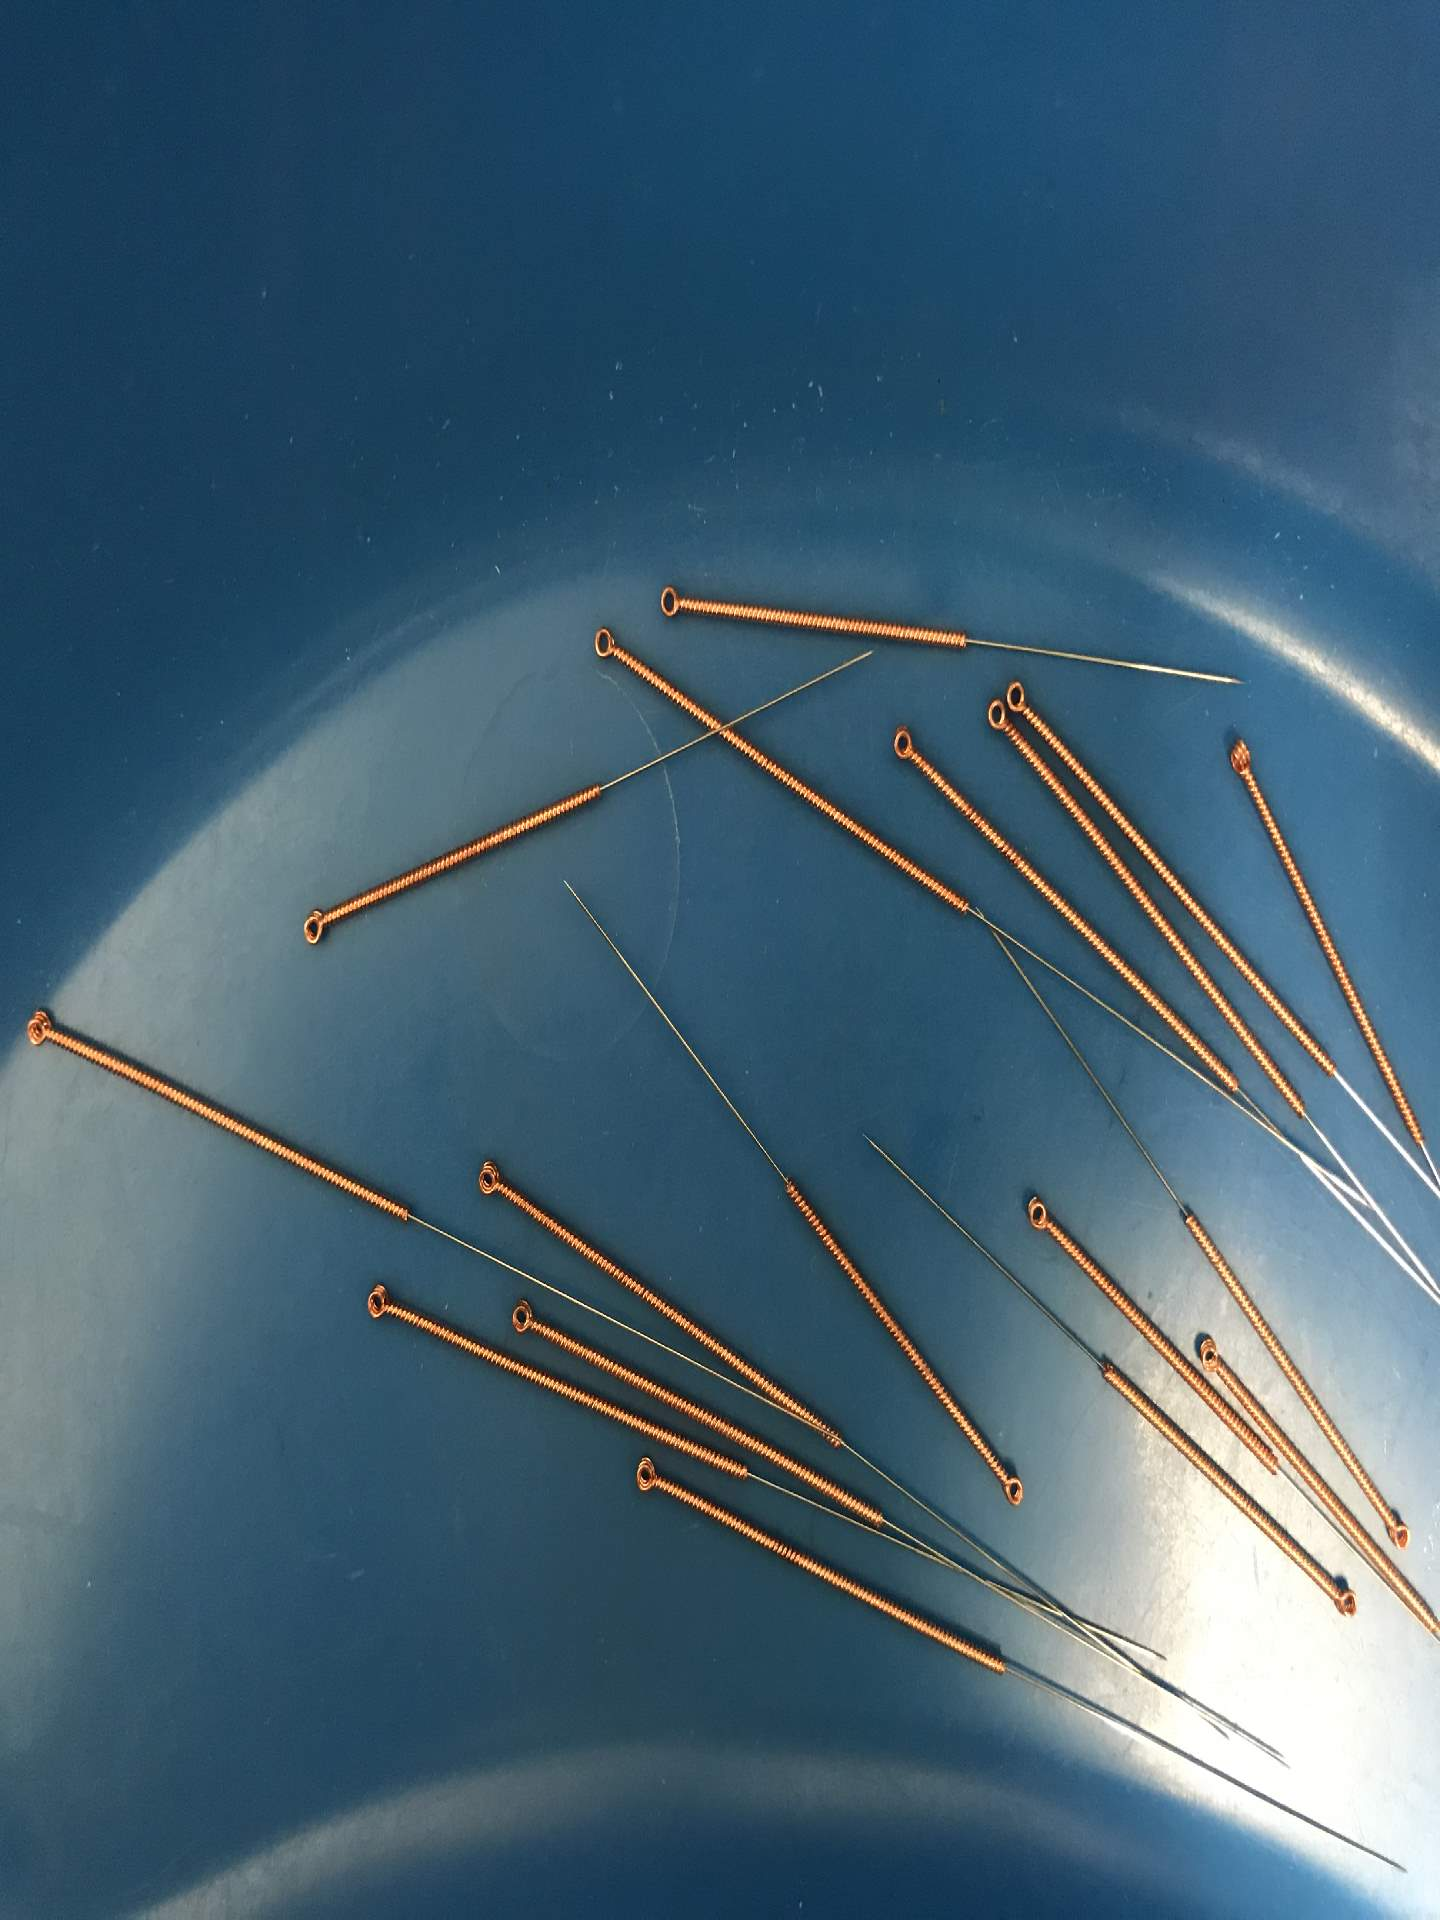needle: (14, 998, 70, 1060), (620, 1442, 676, 1503), (351, 1271, 405, 1332), (985, 1451, 1035, 1516), (576, 614, 632, 671), (644, 573, 697, 632), (1010, 1185, 1063, 1241), (1314, 1568, 1366, 1624), (292, 897, 340, 955), (467, 1150, 517, 1206), (1218, 730, 1265, 788), (501, 1294, 549, 1346), (882, 717, 926, 766), (1376, 1498, 1414, 1554), (1000, 671, 1036, 729), (1193, 1327, 1230, 1379), (979, 692, 1013, 744)
